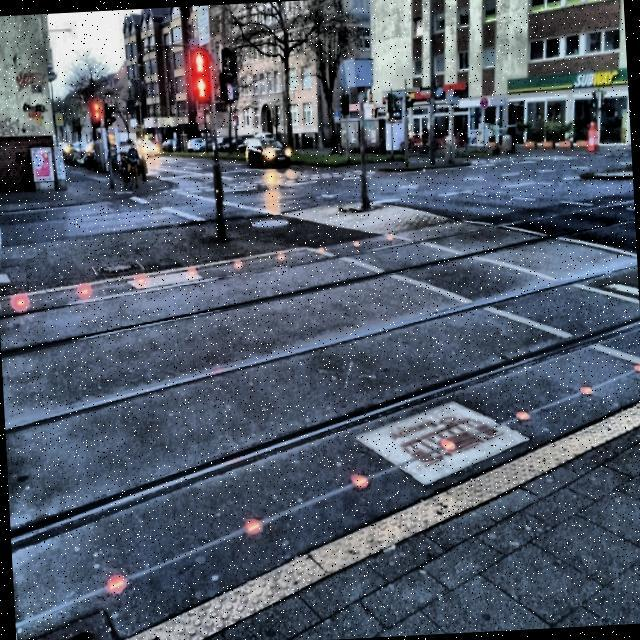red_light: (194, 51, 205, 75), (195, 78, 207, 99)
